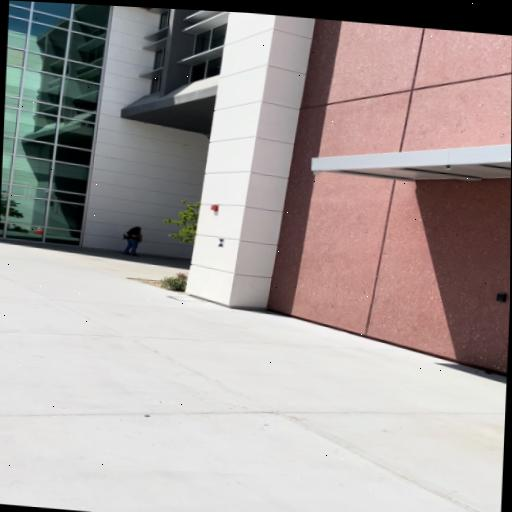target2: (215, 238, 224, 247)
